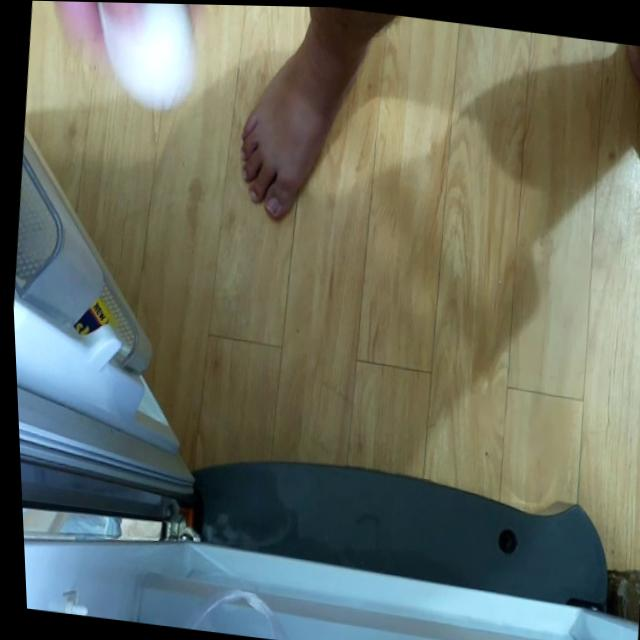egg: (88, 2, 203, 110)
